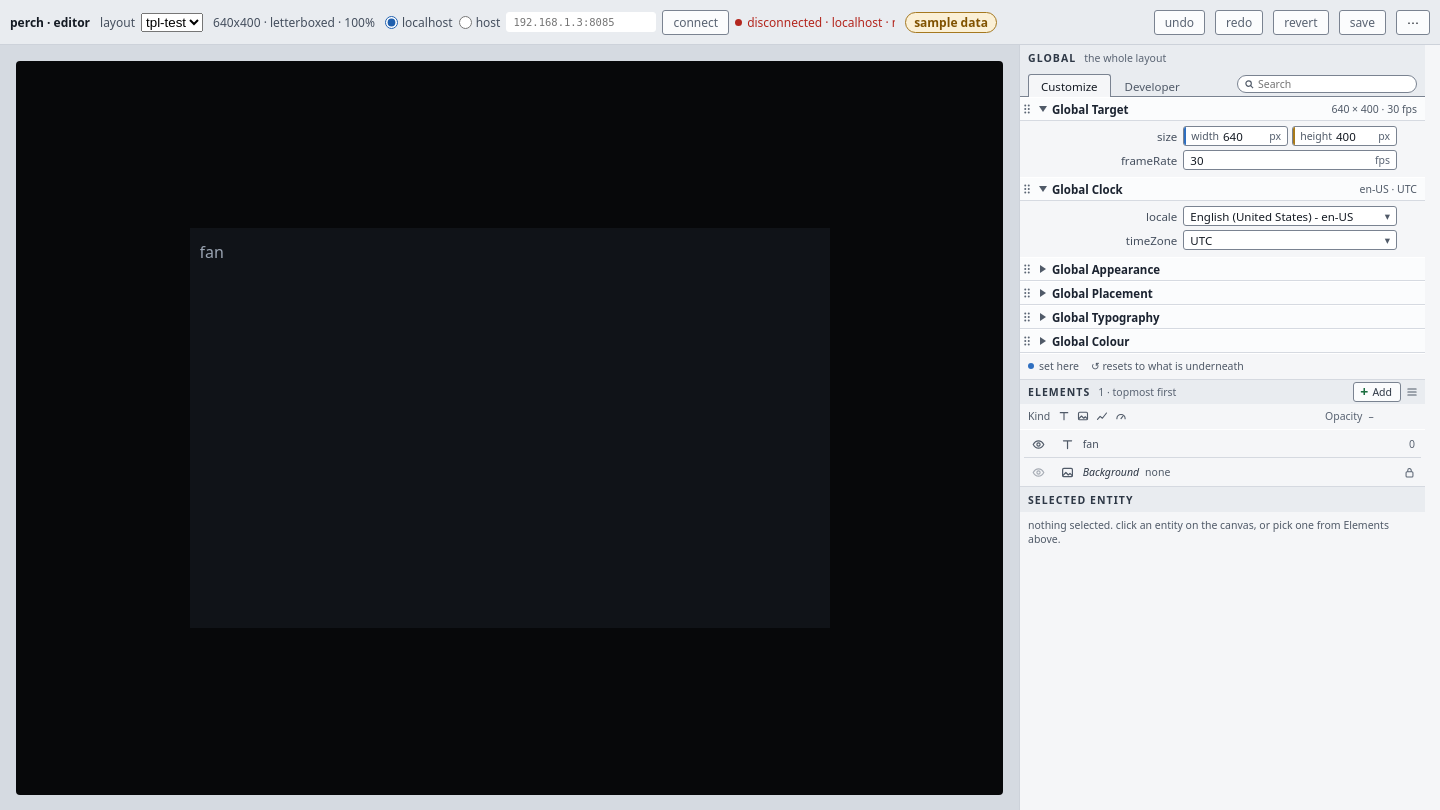
Test: the Style tab › wraps the selection in a style
This screenshot has width=1440, height=810.
Click the button "fan 0". click: (1067, 444)
box: [1052,430,1421,458]
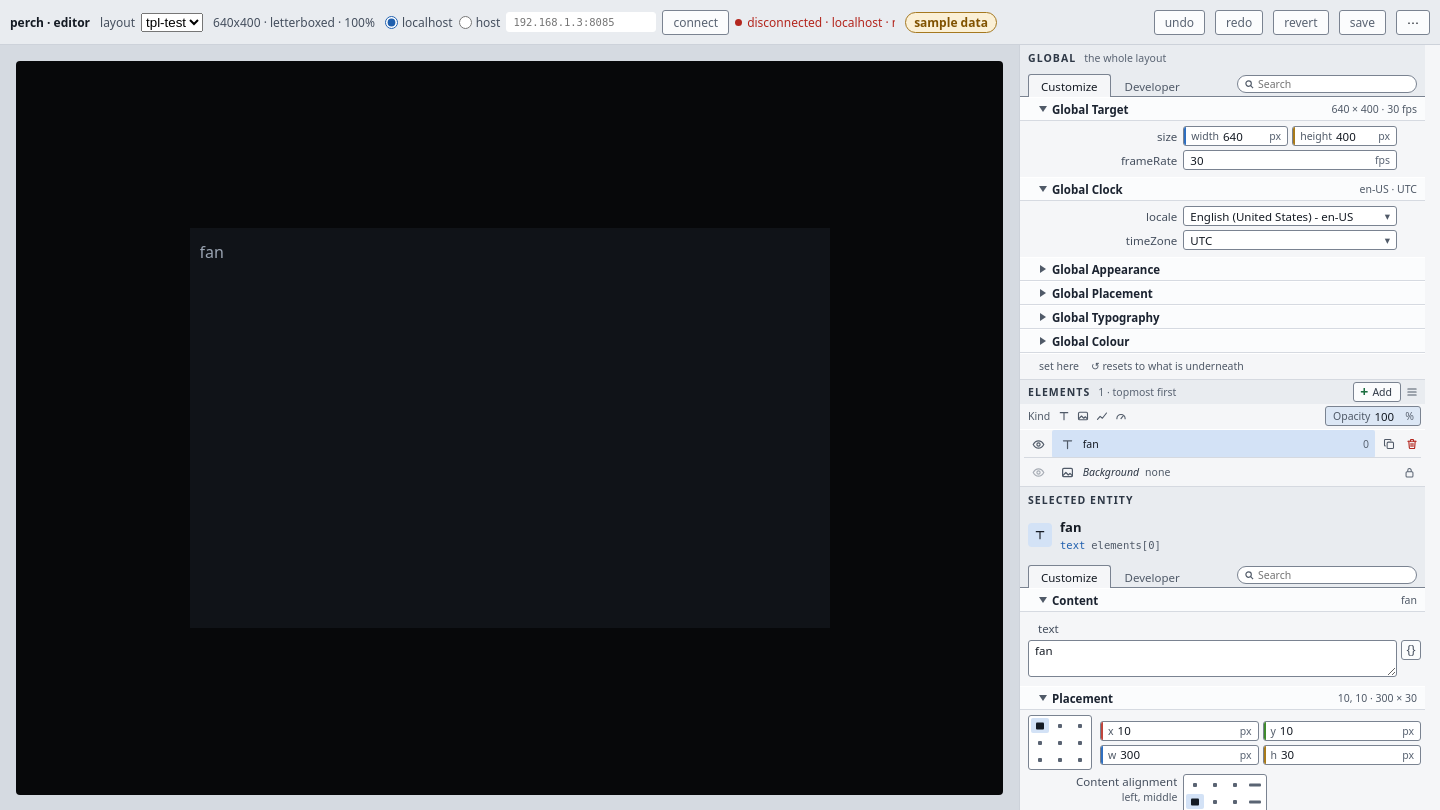
Click the button named "insert a sensor or the clock". click: (1411, 650)
box: [1401,640,1421,660]
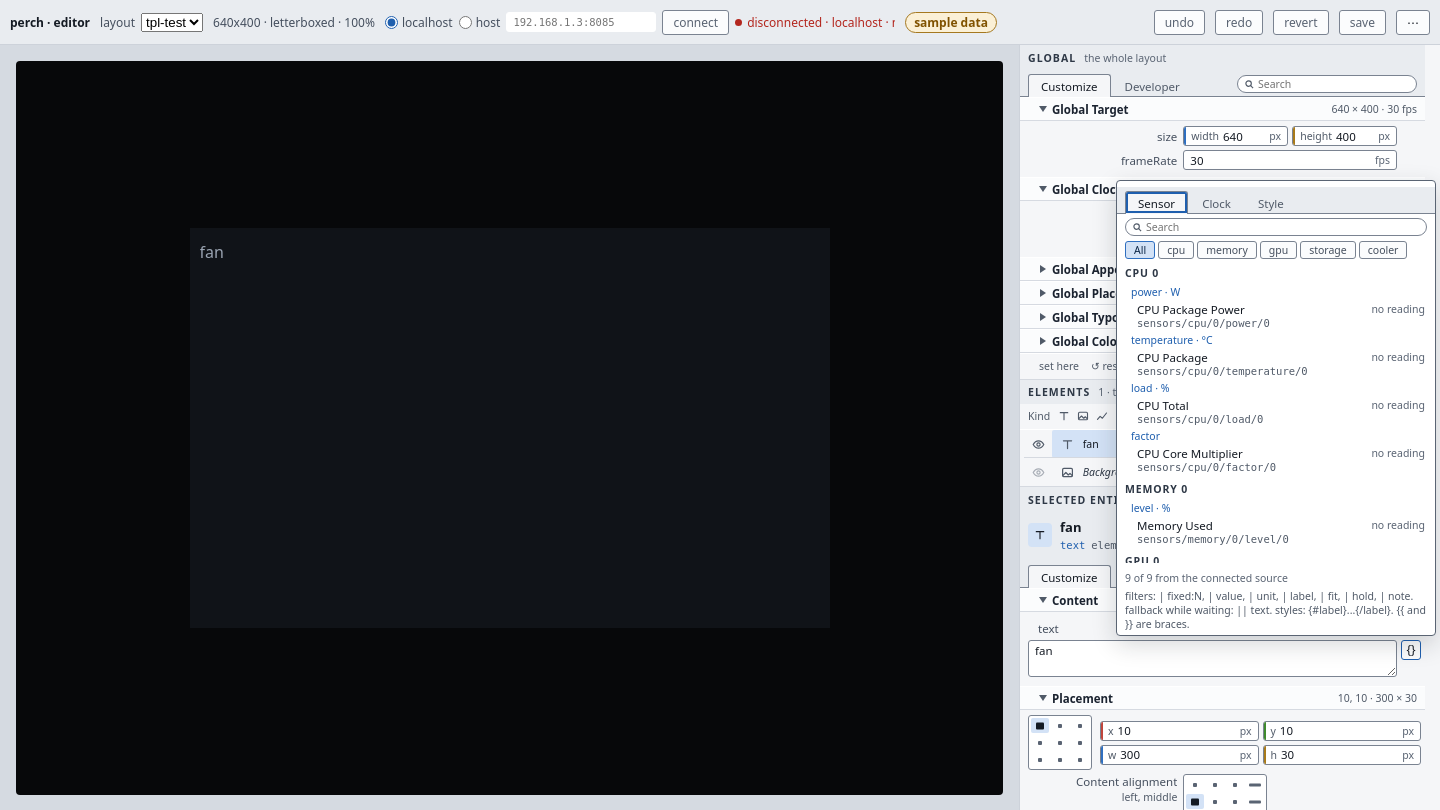
Click the tab "Style". click: (1271, 203)
box: [1245,192,1297,214]
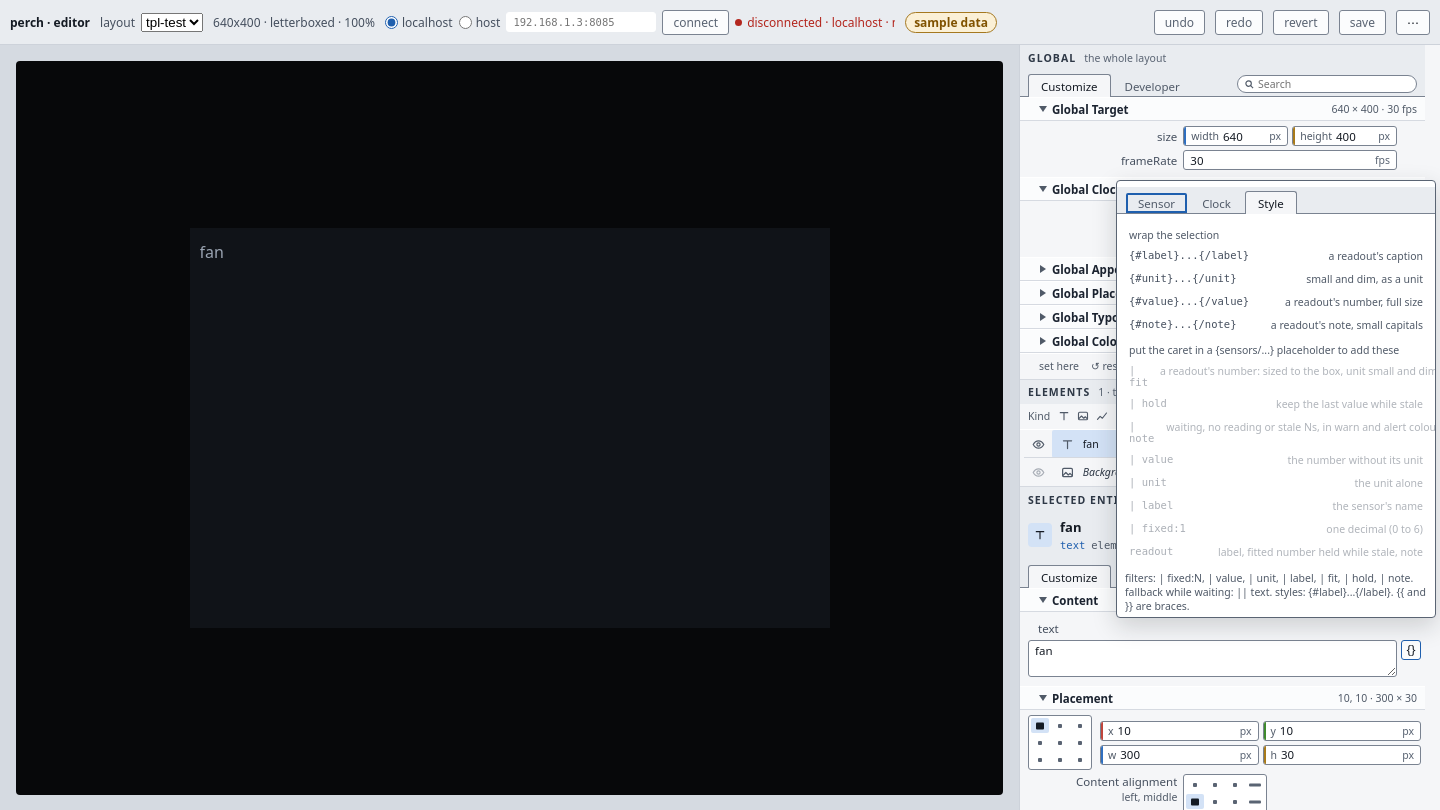
Click the button "{#label}...{/label} a readout's caption". click: (1189, 255)
box: [1121,245,1431,267]
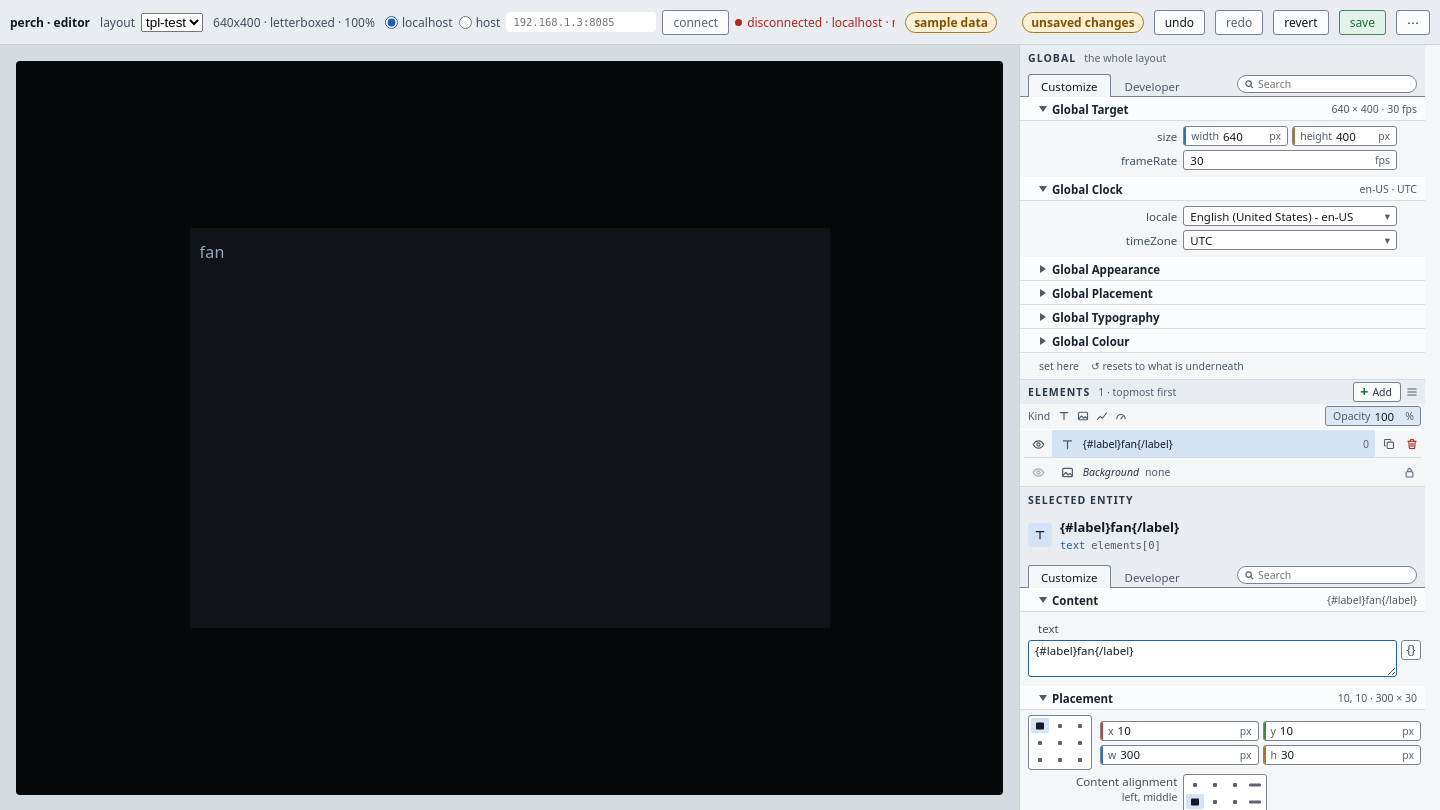
Expected: the element showing "fan" is shown, [200,241,225,263]
Expected: the text box holds "{#label}fan{/label} ", [1028,640,1397,677]
